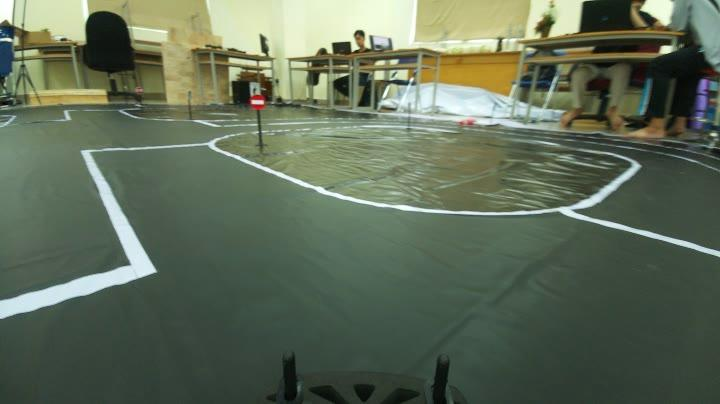no_entry: (245, 92, 269, 114)
